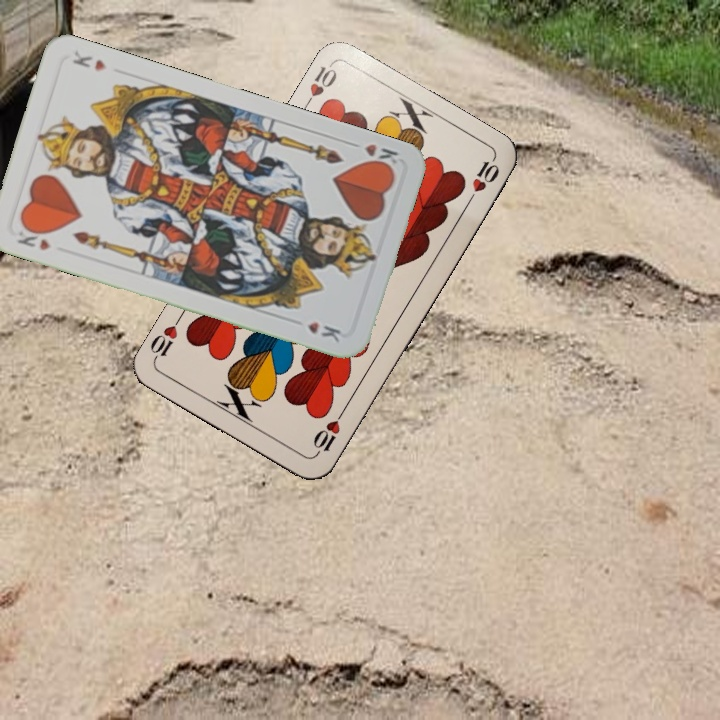H10: (299, 59, 340, 113), (309, 405, 348, 459)
HK: (344, 137, 402, 173), (13, 221, 53, 253)
